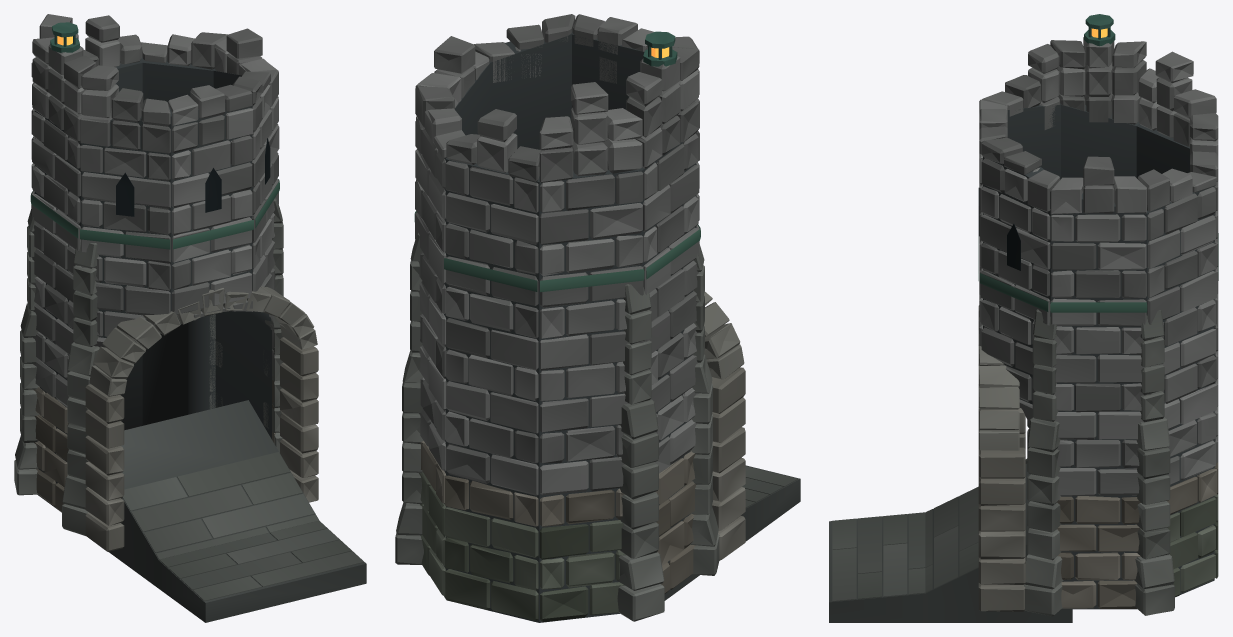
Rendered from cairnwatch.glb.
3 renders of one model, left to right at view 1: azimuth 30°, elevation 25°; view 2: azimuth 150°, elevation 25°; view 3: azimuth 270°, elevation 25°, orthographic. The views are drawn at different scales.
Visible parts, largest first — view 1: towerSkinCairnAshlar, towerSkinCairnThreshold, towerSkinCairnCore, towerSkinCairnBronze; view 2: towerSkinCairnAshlar, towerSkinCairnCore, towerSkinCairnBronze, towerSkinCairnThreshold; view 3: towerSkinCairnAshlar, towerSkinCairnThreshold, towerSkinCairnCore, towerSkinCairnBronze.
Boxes of the visible parts, x1,y1,x2,y2 form: towerSkinCairnAshlar: (14, 14, 318, 551); towerSkinCairnThreshold: (108, 400, 366, 622); towerSkinCairnCore: (34, 56, 272, 512); towerSkinCairnBronze: (30, 22, 279, 249); towerSkinCairnAshlar: (395, 14, 745, 622); towerSkinCairnCore: (431, 31, 696, 622); towerSkinCairnBronze: (414, 31, 700, 292); towerSkinCairnThreshold: (664, 465, 800, 600); towerSkinCairnAshlar: (978, 37, 1218, 616); towerSkinCairnThreshold: (829, 463, 1072, 622); towerSkinCairnCore: (983, 103, 1214, 609); towerSkinCairnBronze: (978, 14, 1218, 312).
Size of the model in its own units: 6.28 by 13.03 by 8.9.
